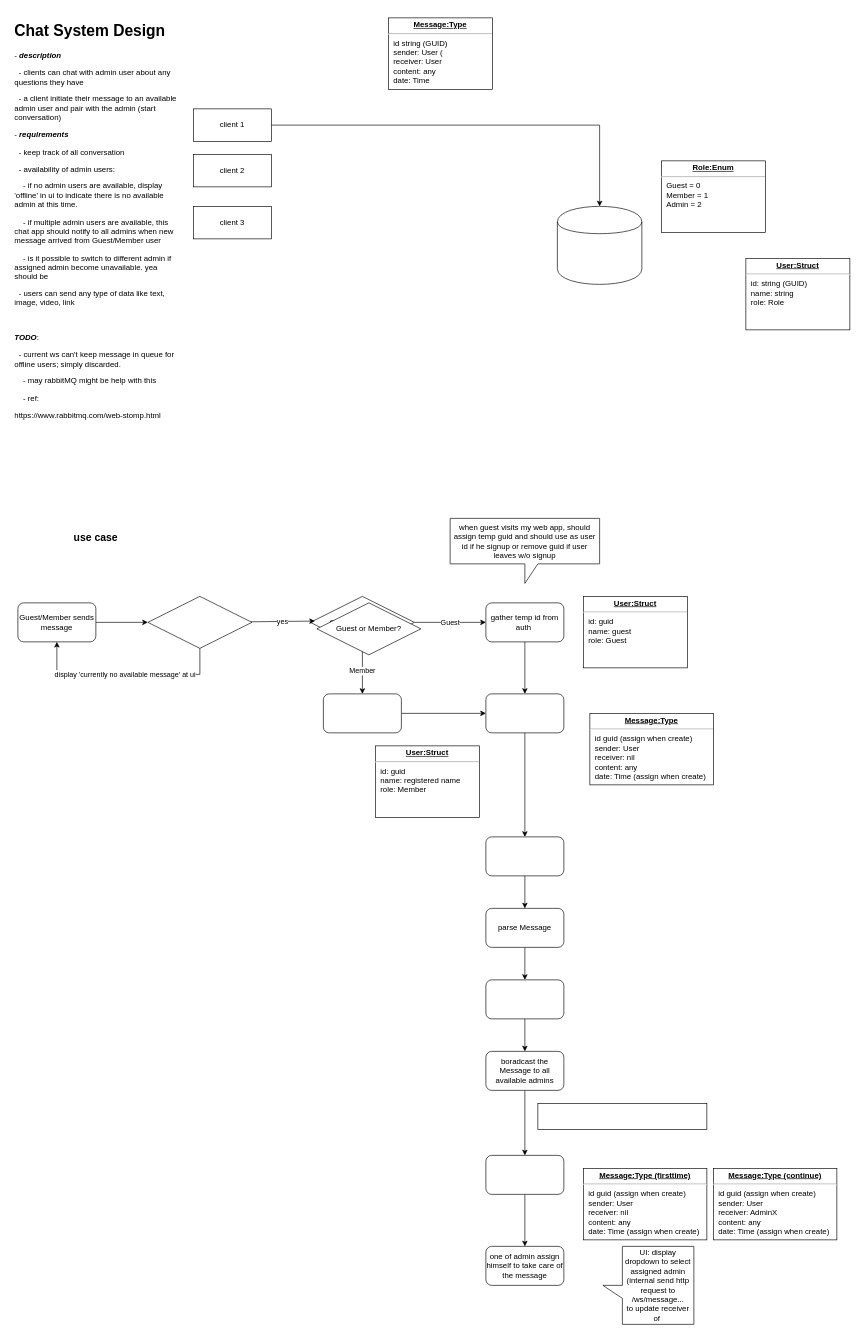
The diagram is 861 pixels wide and 1336 high, and some of its shapes have lost their labels. Each missing label, with the centre of its shape:
admins receive the message: the point at 524,1174
any available admin: the point at 199,622
construct Message object: the point at 524,713
find all admin connection from pool: the point at 622,1116
gather the user info from auth data: the point at 362,713
put connection into pool: the point at 524,999
send to server: the point at 524,856
ws server: the point at 599,245
